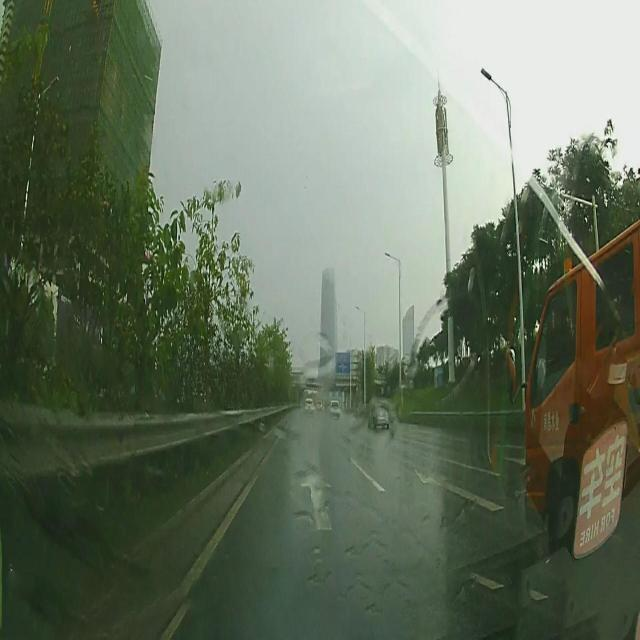car: (368, 400, 390, 430), (328, 397, 340, 418), (304, 396, 314, 417), (316, 398, 323, 414)
